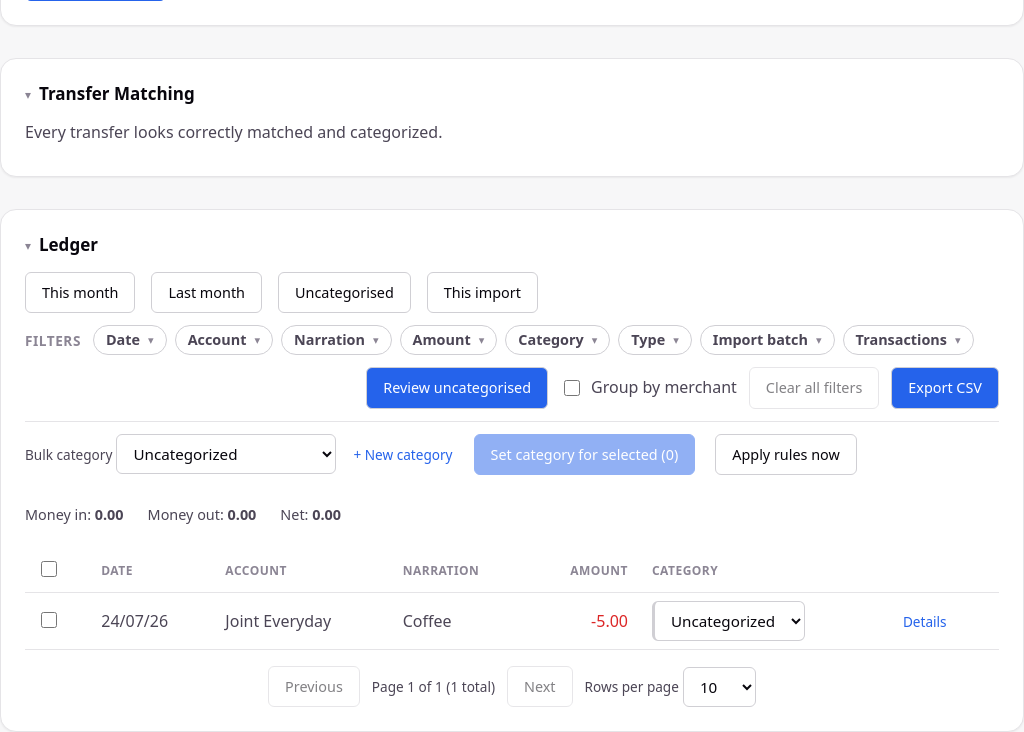
Test case: TransactionsPage › keeps Balance and Type out of the row and shows them in the Details expander
(page scrolled)
Expected: the text "Coffee" is shown, [391, 593, 528, 650]
Expected: the text "100.00" is not shown
Click the button "Details" at coordinates (925, 621), box [894, 604, 956, 638]
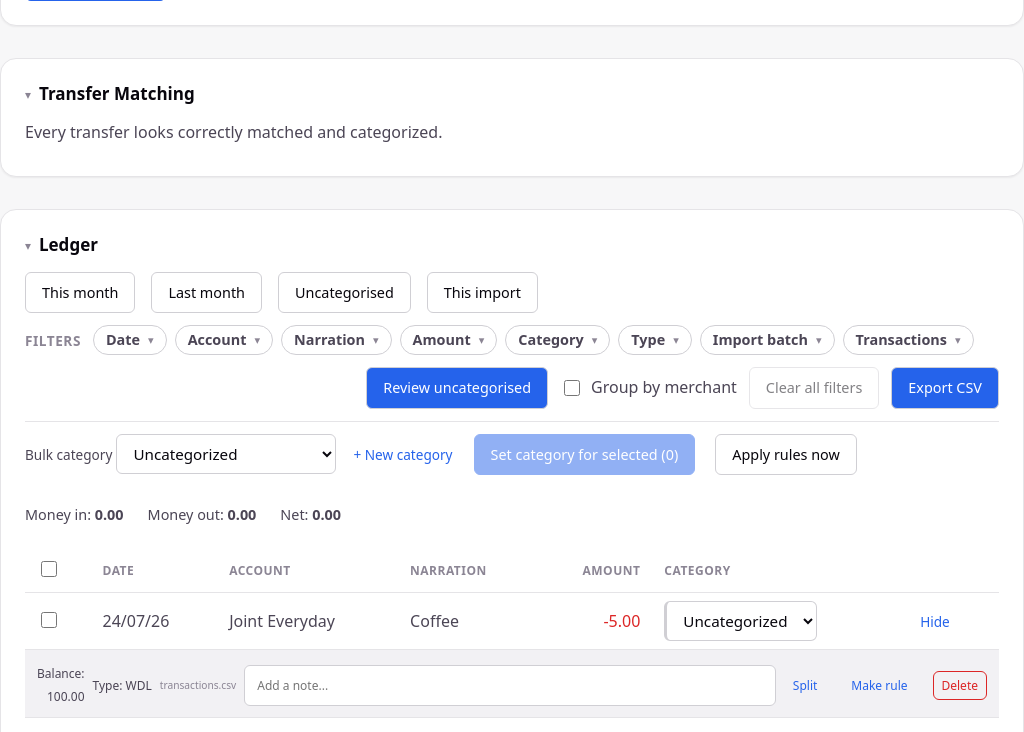
Expected: the text "Balance: 100.00" is shown, [37, 662, 84, 709]
Expected: the text "100.00" is shown, [47, 688, 84, 705]
Expected: the text "Type: WDL" is shown, [92, 674, 152, 697]
